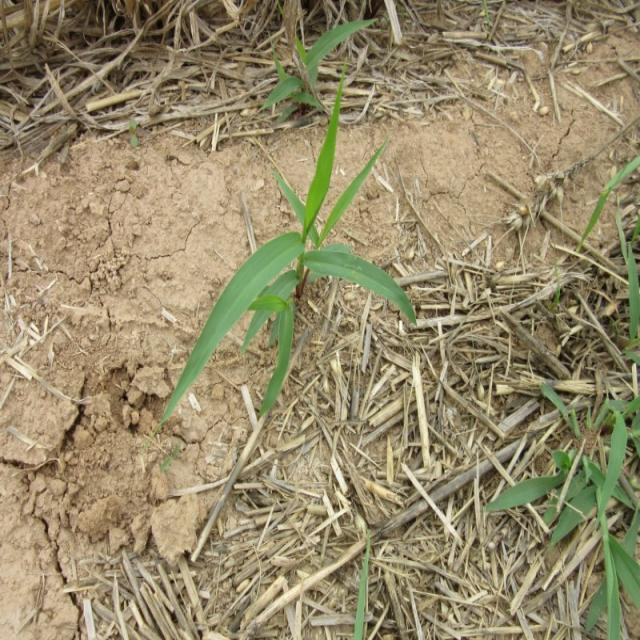bg: (157, 71, 420, 428)
